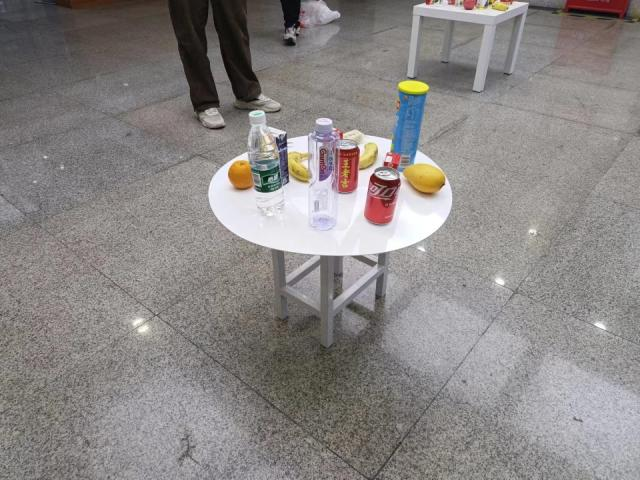Canned_drinks: (365, 166, 400, 226), (336, 139, 360, 194)
bottle: (246, 110, 286, 218), (307, 118, 340, 232)
cylinder: (392, 80, 426, 171)
drink_box: (265, 125, 289, 186), (381, 153, 400, 188)
